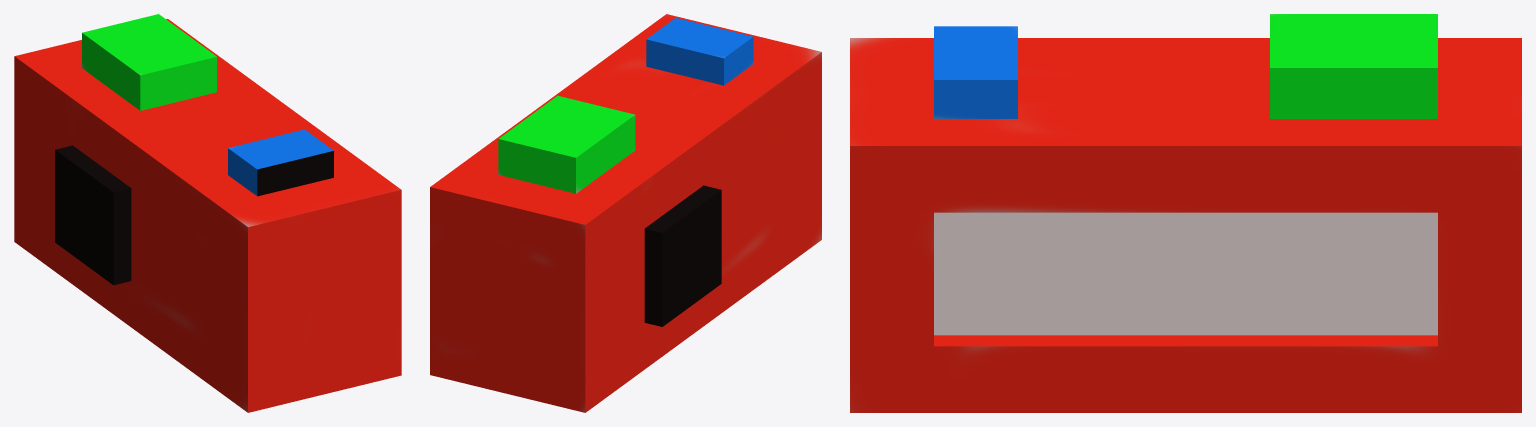
Rendered from alarm clock.fbx.
3 renders of one model, left to right at view 1: azimuth 30°, elevation 25°; view 2: azimuth 150°, elevation 25°; view 3: azimuth 270°, elevation 25°, orthographic. The views are drawn at different scales.
Visible parts, largest first — view 1: Cube; view 2: Cube; view 3: Cube.
Part boxes in pixels (<box>): Cube: <box>14,14,401,412</box>; Cube: <box>430,14,821,412</box>; Cube: <box>850,14,1521,412</box>.
Bounding box in the file's own units: 223 × 276 × 527.
